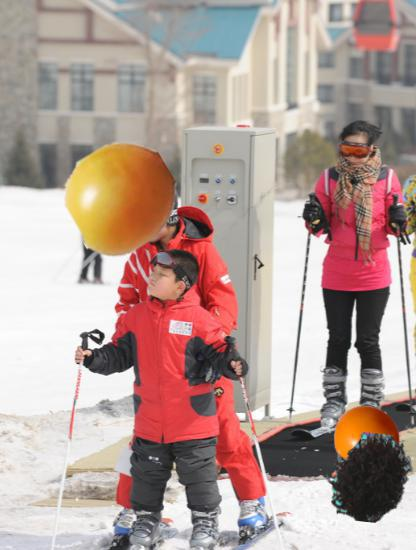Cherry: (65, 142, 176, 253)
Rambutan: (325, 433, 414, 522)
Tomato: (333, 405, 399, 471)
